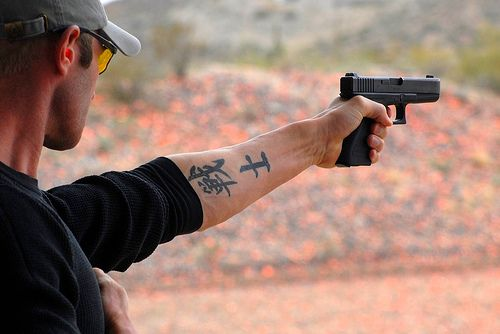gun: (334, 68, 455, 162)
